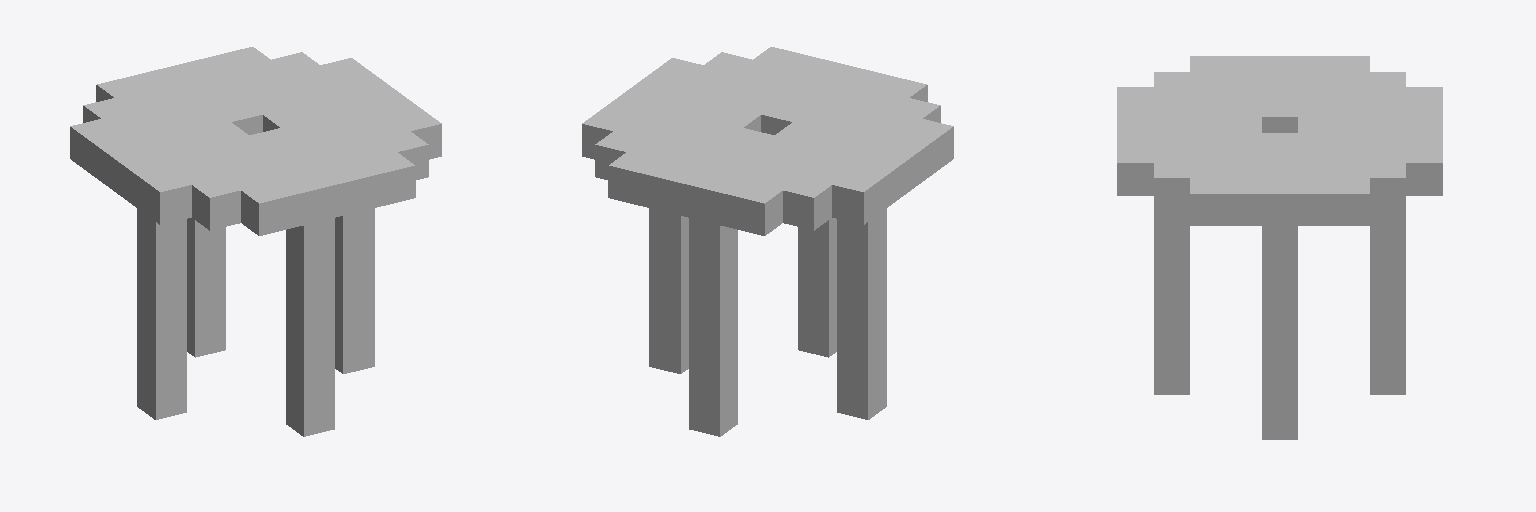
Rendered from stool.obj.
The picture shows the model from 3 angles: view 1: azimuth 30°, elevation 25°; view 2: azimuth 150°, elevation 25°; view 3: azimuth 270°, elevation 25°; orthographic projection.
Parts seen in each view (by area): view 1: object 1; view 2: object 1; view 3: object 1.
Part boxes in pixels (x1,y1,x2,y2): object 1: (70, 47, 441, 436); object 1: (582, 47, 953, 436); object 1: (1117, 56, 1442, 439).
Size of the model in its own units: 0.9 by 0.8 by 0.9.